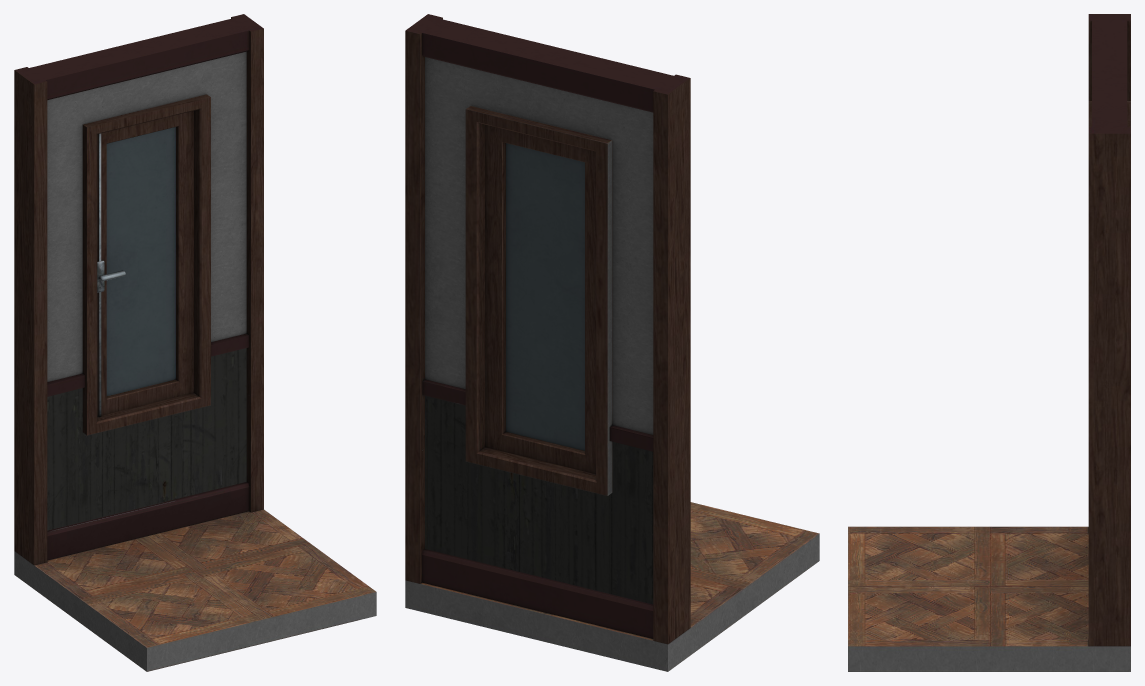
File: SM_Wall_Window1.fbx
3 views of the same model, side by side, from view 1: azimuth 30°, elevation 25°; view 2: azimuth 150°, elevation 25°; view 3: azimuth 270°, elevation 25° (orthographic). The views are drawn at different scales.
Parts seen in each view (by area): view 1: Wall_Window1; view 2: Wall_Window1; view 3: Wall_Window1.
Part boxes in pixels (x1,y1,x2,y2): Wall_Window1: [14, 14, 376, 671]; Wall_Window1: [405, 14, 819, 671]; Wall_Window1: [848, 14, 1130, 671].
Bounding box in the file's own units: 200 × 420 × 200.
